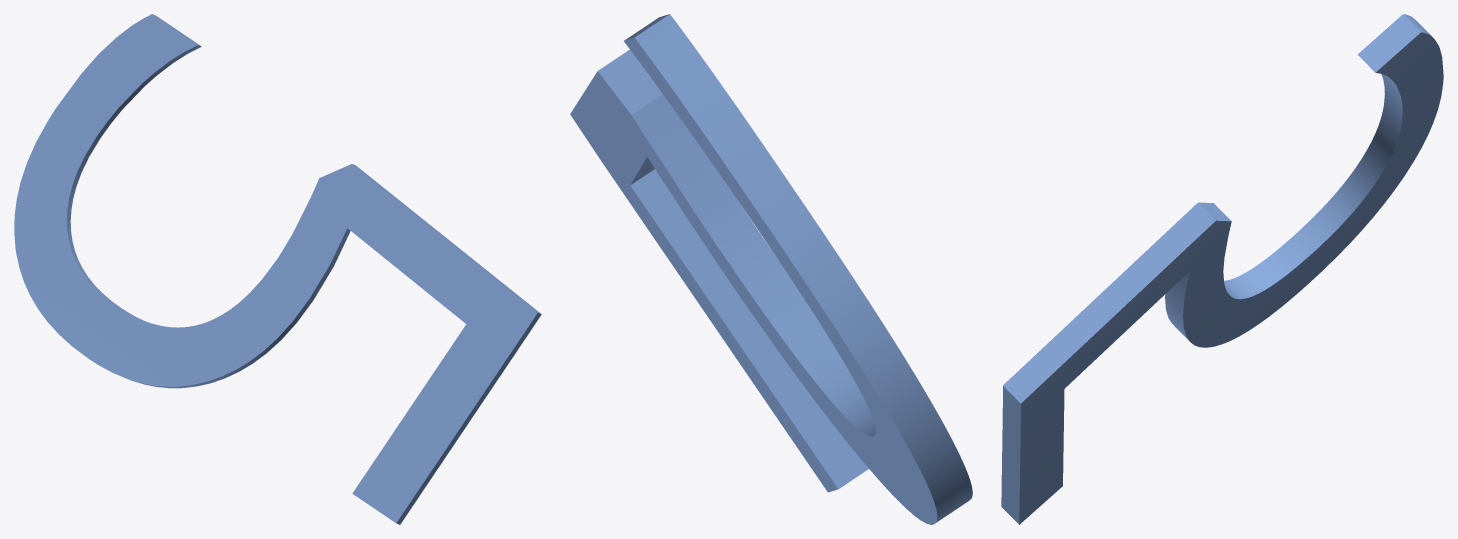
Rendered from New_Number_5.gltf.
3 renders of one model, left to right at view 1: azimuth 30°, elevation 25°; view 2: azimuth 150°, elevation 25°; view 3: azimuth 270°, elevation 25°, orthographic. The views are drawn at different scales.
Parts seen in each view (by area): view 1: Part 194; view 2: Part 194; view 3: Part 194.
Part boxes in pixels (x1=…): Part 194: x1=14, y1=14, x2=541, y2=524; Part 194: x1=570, y1=14, x2=972, y2=524; Part 194: x1=1001, y1=14, x2=1443, y2=524.
Size of the model in its own units: 0.00456 by 0.00484 by 0.00416.
